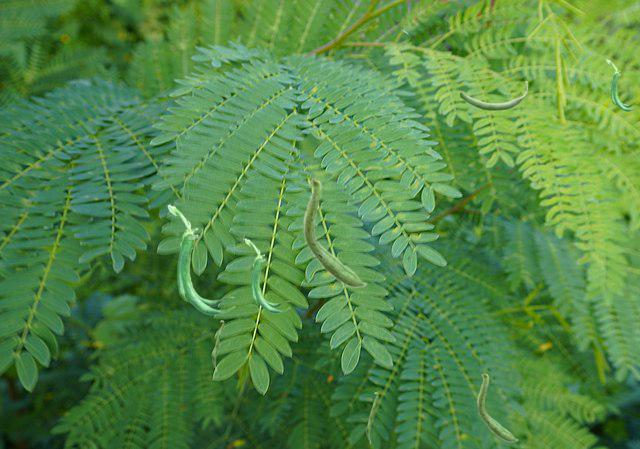french_bean: (167, 204, 234, 314), (303, 177, 366, 287), (244, 238, 289, 312), (477, 372, 517, 441), (459, 81, 527, 110), (606, 59, 637, 110), (366, 392, 377, 443), (212, 320, 223, 371)
